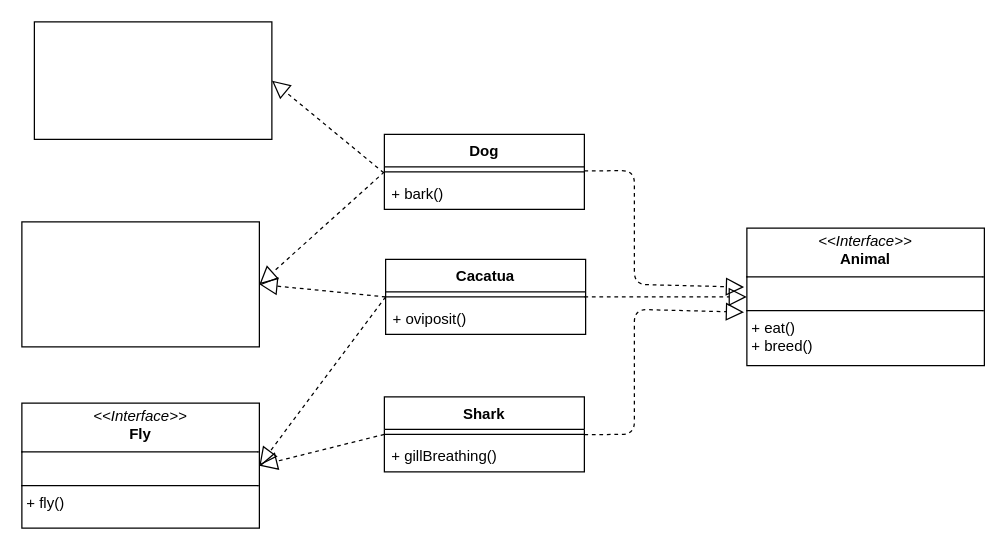
Some shapes in this 1006 by 550 pixel diagram are drawn without their labels. Each missing label, with the centre of its shape:
"<<Interface>> Swim + swim()" belongs at (152,80).
"<<Interface>> Walk + walk()" belongs at (140,284).
